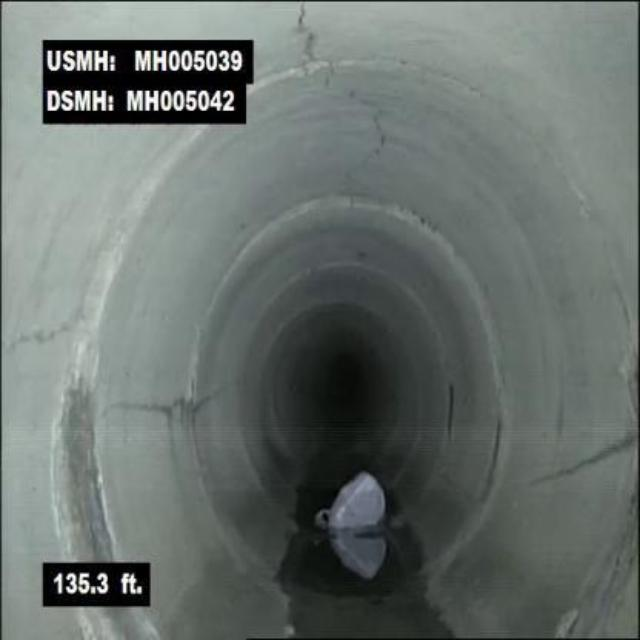Crack: (511, 434, 631, 495), (323, 71, 395, 172), (5, 303, 88, 352), (103, 394, 178, 442), (286, 5, 322, 65)
